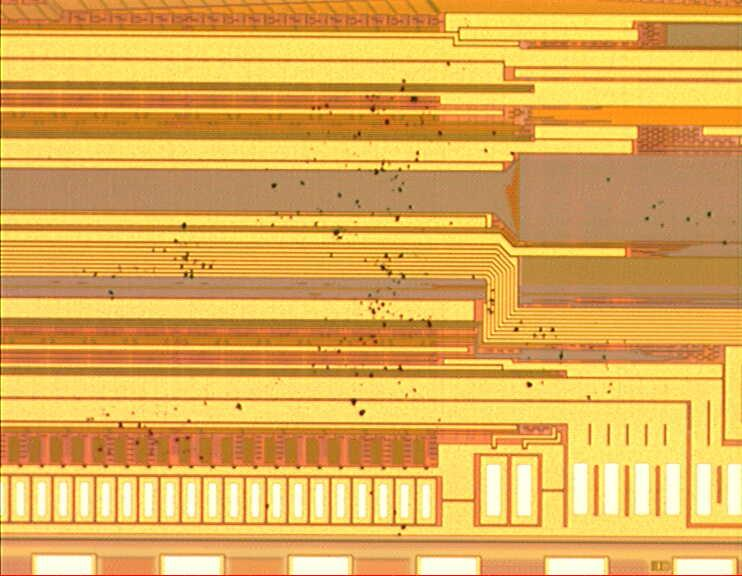PO CONTAMINATION: (79, 56, 742, 543)
